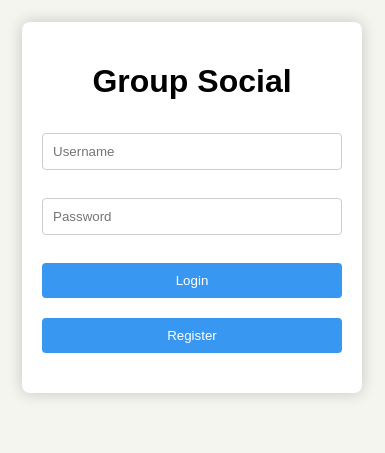
Scenario: Login component tests › displays error message on login failure
Step 1. Type "wronguser" into the field with placeholder "Username" → (192, 152), box left=42, top=133, right=342, bottom=170
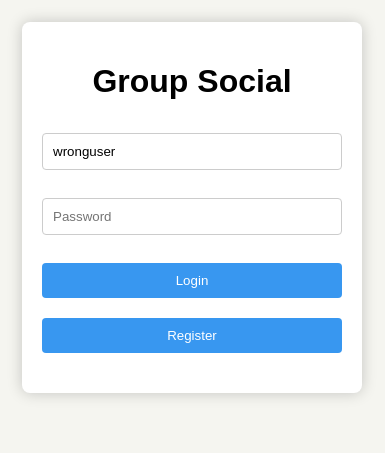
Step 2. Type "wrongpassword" into the password field with placeholder "Password" → (192, 217), box left=42, top=198, right=342, bottom=235
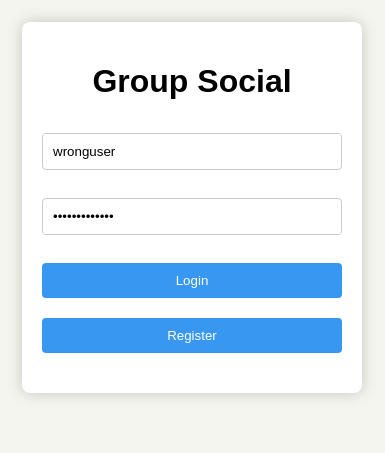
Step 3. Click the button "Login" → (192, 281), box left=42, top=263, right=342, bottom=298
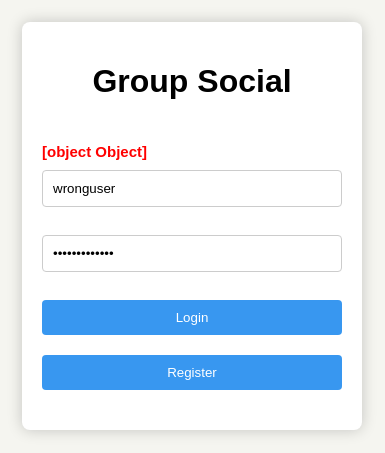
Check: the text "[object Object]" is shown, box left=42, top=143, right=147, bottom=160
